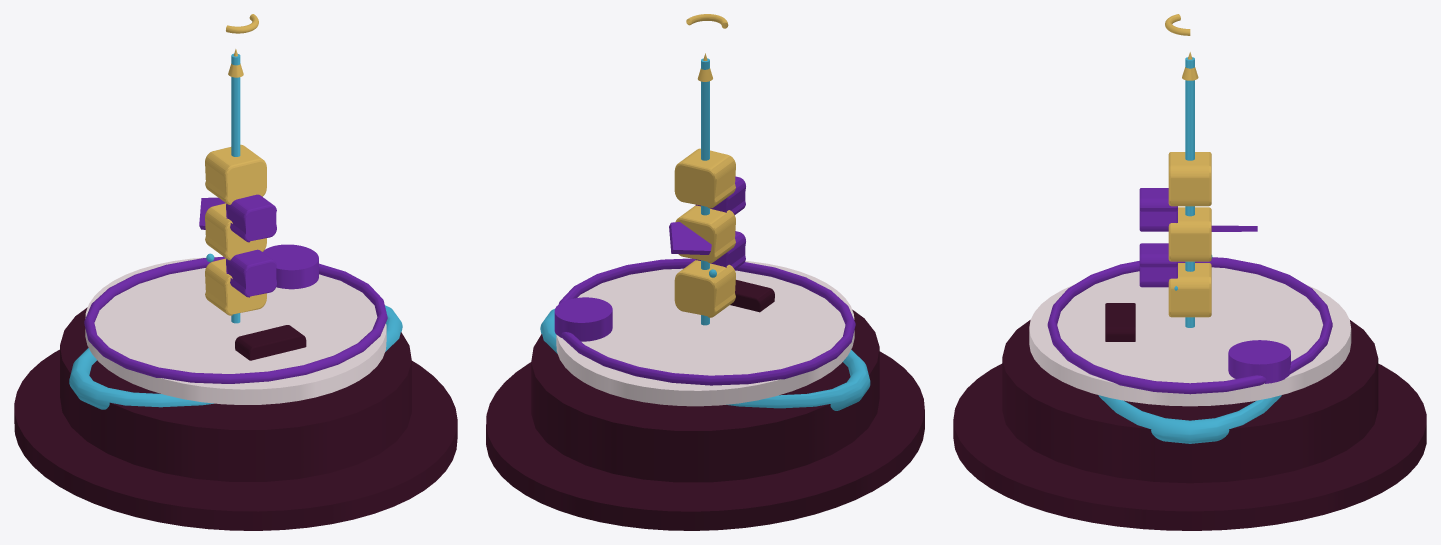
The model's file is 0320_揭秘食物图鉴_黄颡鱼.glb.
3 renders of one model, left to right at view 1: azimuth 30°, elevation 25°; view 2: azimuth 150°, elevation 25°; view 3: azimuth 270°, elevation 25°, orthographic.
Parts seen in each view (by area): view 1: card_0320; view 2: card_0320; view 3: card_0320.
Part boxes in pixels (<box>): card_0320: <box>14,14,457,530</box>; card_0320: <box>486,14,924,530</box>; card_0320: <box>953,14,1426,530</box>.
Bounding box in the file's own units: 0.9461 × 1 × 1.03.
